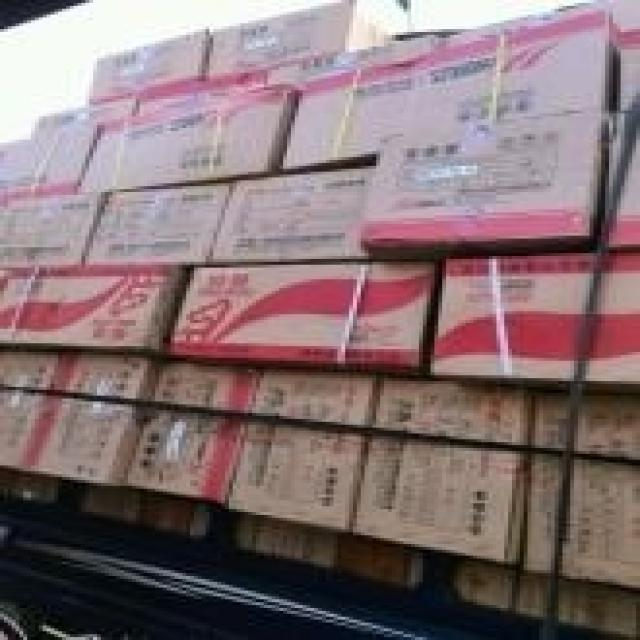box: (287, 9, 632, 177), (361, 108, 613, 262), (349, 375, 539, 567), (167, 262, 446, 378), (225, 364, 392, 532), (74, 87, 306, 195), (520, 387, 640, 588), (431, 256, 605, 387), (124, 361, 268, 500), (19, 352, 167, 483), (0, 265, 190, 358), (206, 169, 380, 268), (206, 0, 411, 79), (78, 183, 233, 268), (268, 32, 458, 90), (0, 343, 70, 465), (578, 253, 640, 390), (89, 29, 209, 99), (0, 192, 105, 271), (132, 67, 268, 125), (0, 125, 97, 204), (601, 93, 640, 256), (85, 93, 144, 122)
